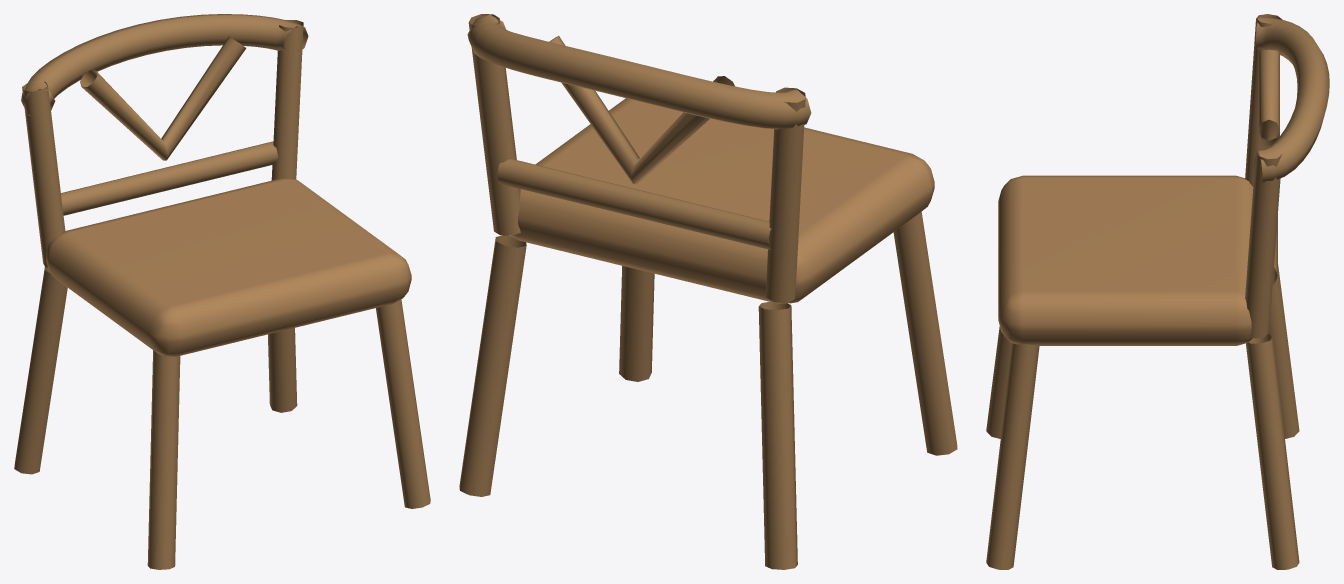
File: wh-wishbone-chair.glb
3 renders of one model, left to right at view 1: azimuth 30°, elevation 25°; view 2: azimuth 150°, elevation 25°; view 3: azimuth 270°, elevation 25°, orthographic. The views are drawn at different scales.
Parts seen in each view (by area): view 1: Chair leg.076, Upholstered seat.023; view 2: Chair leg.076, Upholstered seat.023; view 3: Upholstered seat.023, Chair leg.076.
Part boxes in pixels (x1,y1,x2,y2): Chair leg.076: [14, 14, 430, 569]; Upholstered seat.023: [46, 178, 411, 356]; Chair leg.076: [459, 14, 957, 569]; Upholstered seat.023: [511, 98, 934, 303]; Upholstered seat.023: [998, 175, 1253, 345]; Chair leg.076: [986, 14, 1329, 569].
Bounding box in the file's own units: 0.56 × 0.76 × 0.55.
